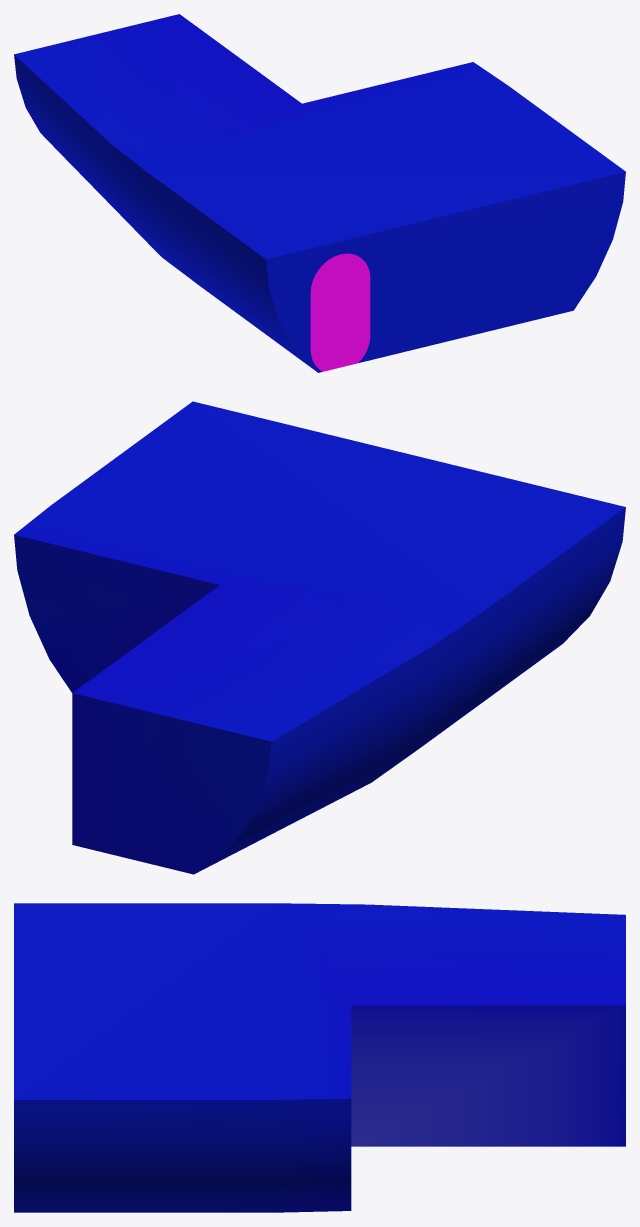
File: torpedo-fixed.fbx
3 renders of one model, top to bottom at view 1: azimuth 30°, elevation 25°; view 2: azimuth 150°, elevation 25°; view 3: azimuth 270°, elevation 25°, orthographic. The views are drawn at different scales.
Parts seen in each view (by area): view 1: Torpedo bay; view 2: Torpedo bay; view 3: Torpedo bay.
Boxes of the visible parts, x1,y1,x2,y2 form: Torpedo bay: (14,14,625,372); Torpedo bay: (14,401,625,874); Torpedo bay: (14,903,625,1212).
Bounding box in the file's own units: 849 × 284 × 1116.
